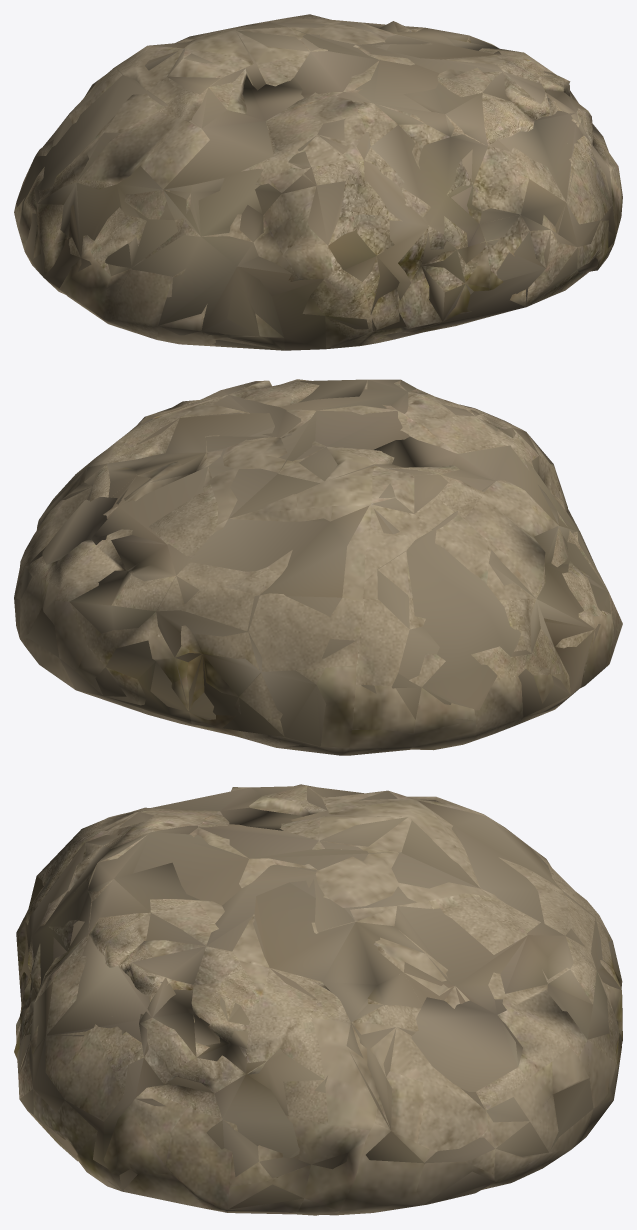
The model's file is roca.glb.
The picture shows the model from 3 angles, top to bottom: view 1: azimuth 30°, elevation 25°; view 2: azimuth 150°, elevation 25°; view 3: azimuth 270°, elevation 25°; orthographic projection. The views are drawn at different scales.
Visible parts, largest first — view 1: cerca, medio, lejos; view 2: cerca, medio, lejos; view 3: cerca, medio, lejos.
Part boxes in pixels (<box>): cerca: <box>14,14,622,350</box>; medio: <box>34,19,615,350</box>; lejos: <box>16,27,615,350</box>; cerca: <box>14,379,622,755</box>; medio: <box>14,379,611,755</box>; lejos: <box>42,389,608,747</box>; cerca: <box>14,784,622,1215</box>; medio: <box>16,786,622,1215</box>; lejos: <box>17,787,622,1215</box>.
Size of the model in its own units: 2.4 by 0.9013 by 2.06.
Materials: 2 (1 with a texture image).
